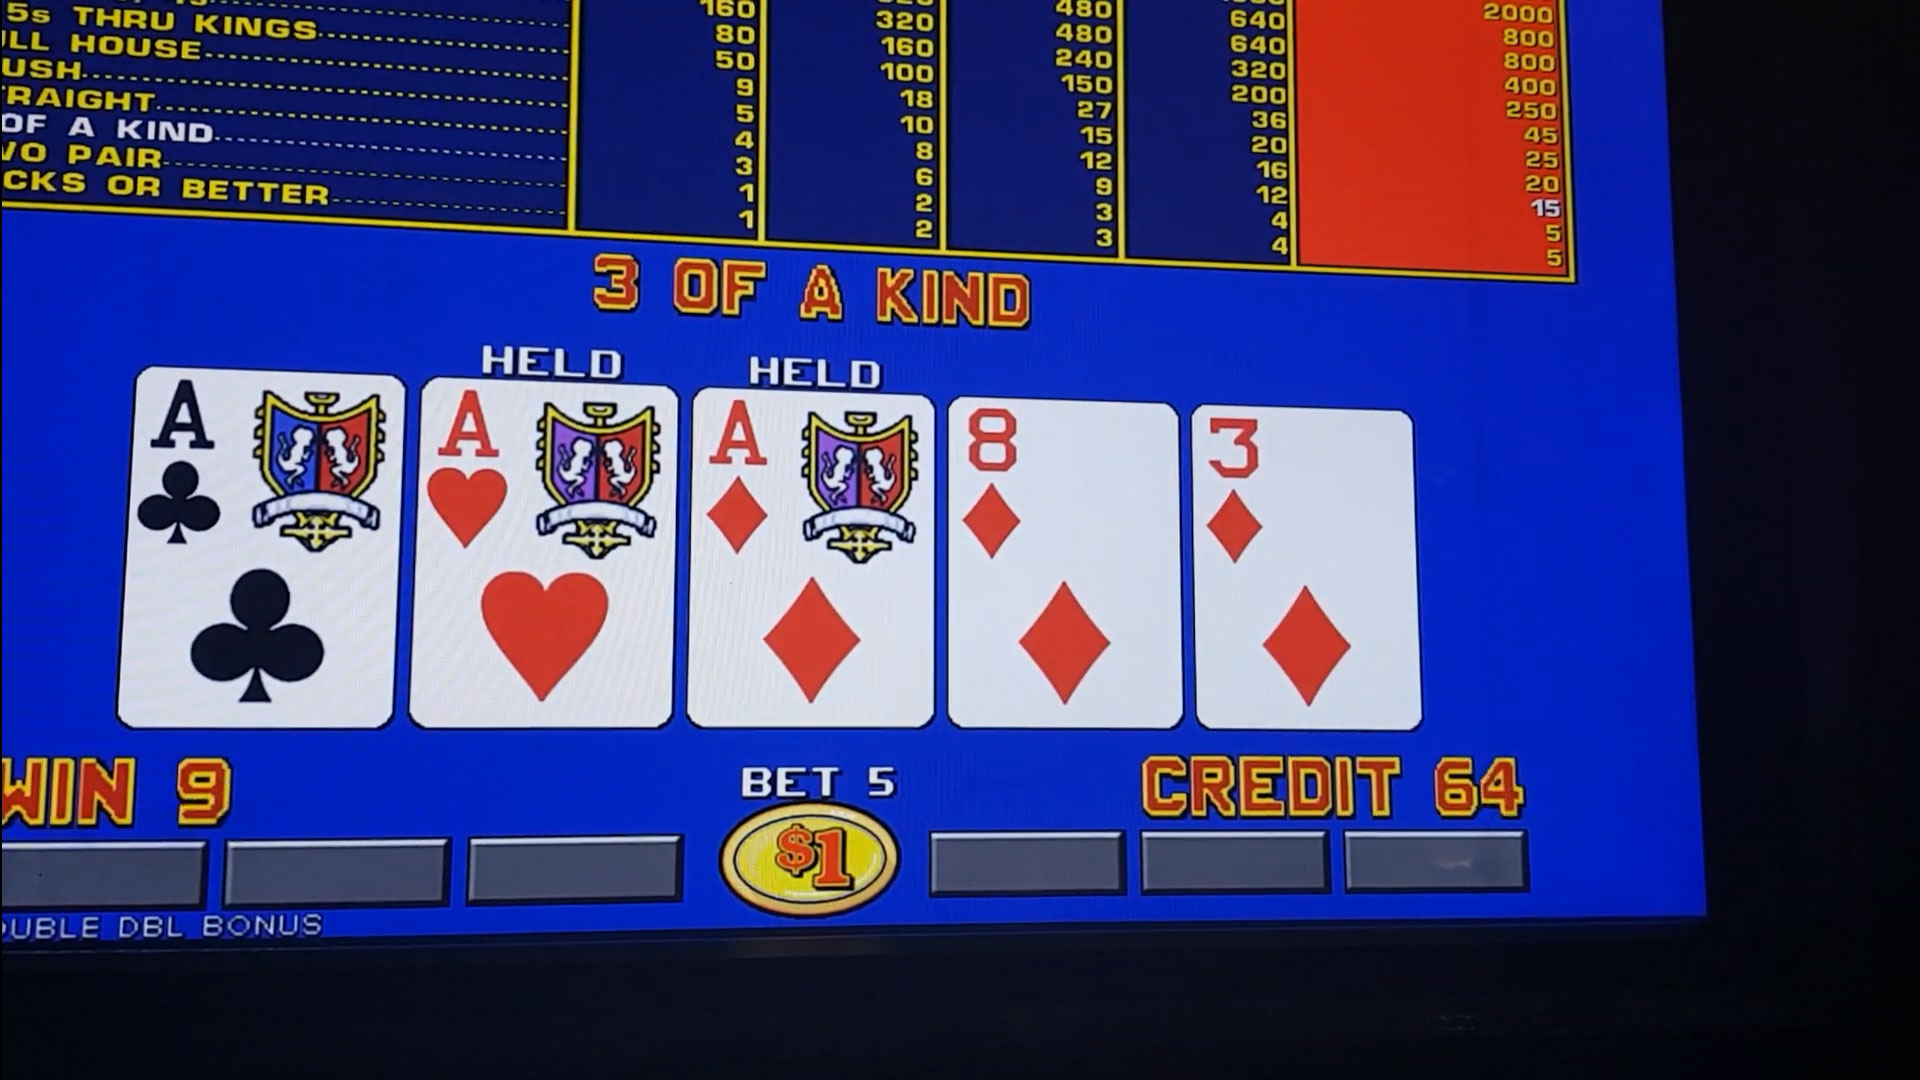CA: (136, 378, 393, 555)
D3: (1197, 409, 1408, 568)
D8: (956, 407, 1176, 583)
DA: (696, 397, 934, 568)
HA: (426, 384, 673, 559)
